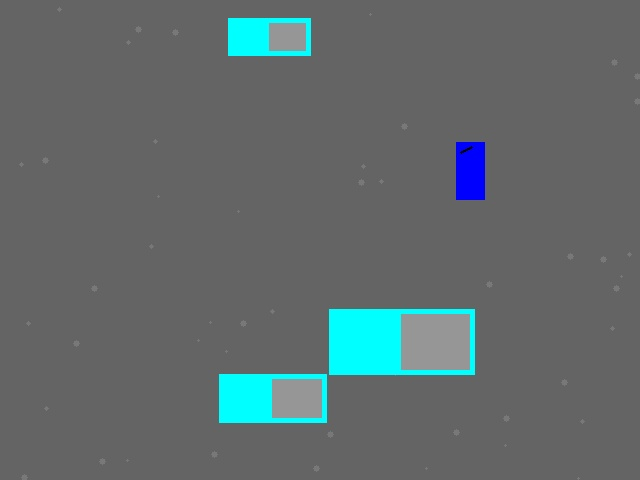motorcycle: (456, 142, 484, 199)
truck: (329, 309, 474, 374), (219, 374, 326, 422), (228, 18, 310, 55)
